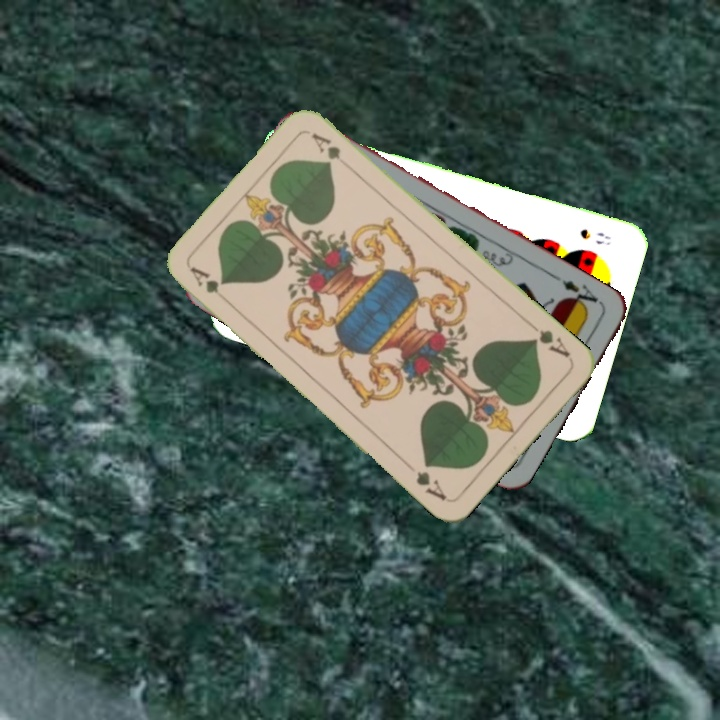EA: (558, 275, 605, 313)
GA: (186, 262, 234, 307), (525, 318, 573, 360)
S8: (576, 224, 614, 248)
